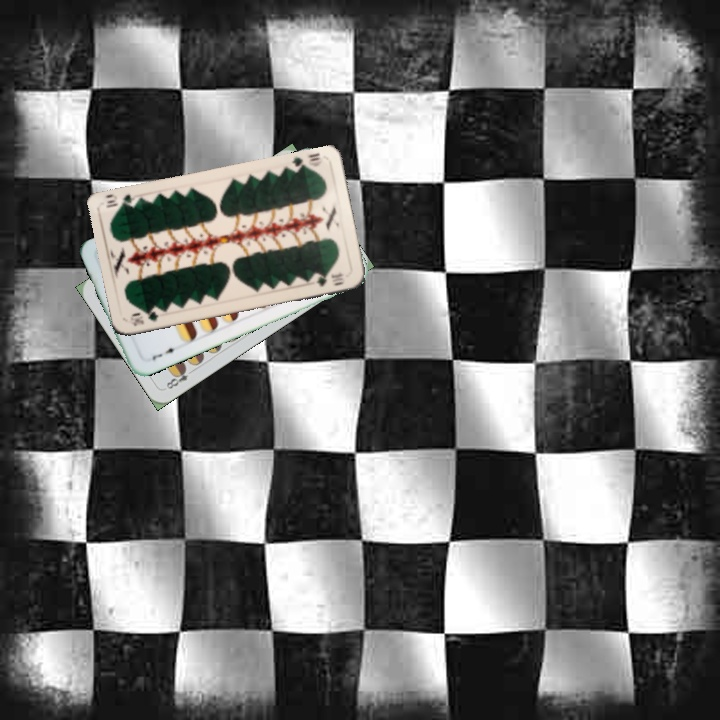E7: (148, 344, 180, 363)
E8: (162, 363, 197, 392)
G10: (287, 149, 324, 175), (127, 307, 161, 328)
